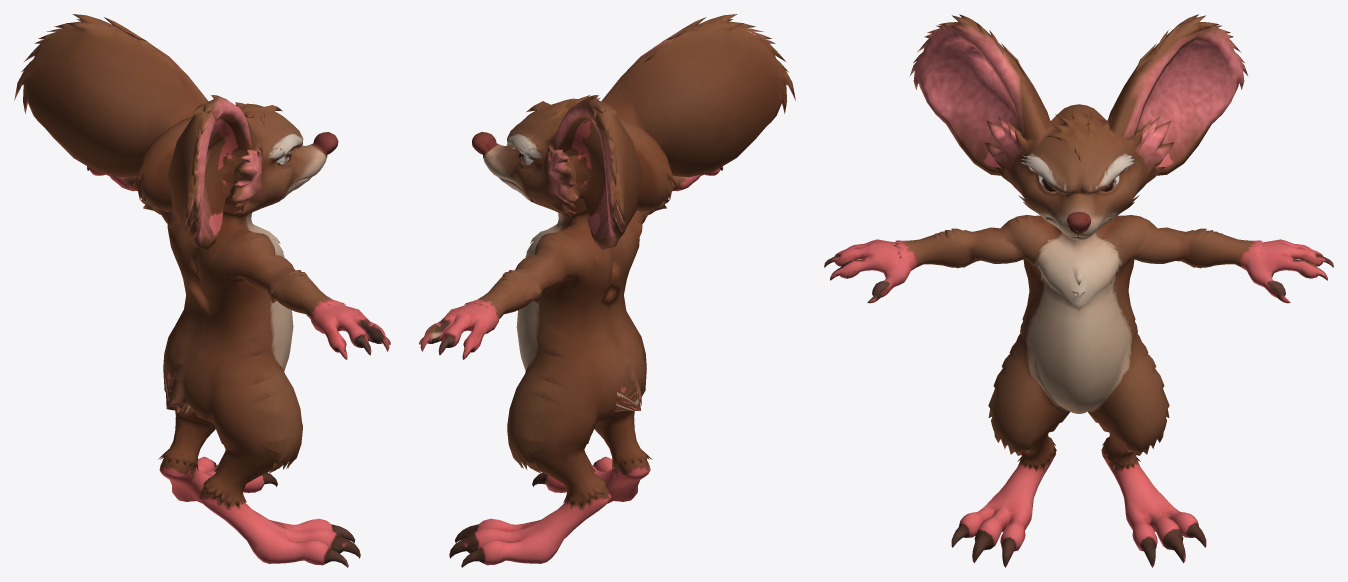
Rendered from tail_v5.glb.
3 renders of one model, left to right at view 1: azimuth 30°, elevation 25°; view 2: azimuth 150°, elevation 25°; view 3: azimuth 270°, elevation 25°, orthographic. The views are drawn at different scales.
Parts seen in each view (by area): view 1: Tail_v5_GAME; view 2: Tail_v5_GAME; view 3: Tail_v5_GAME.
Part boxes in pixels (x1,y1,x2,y2): Tail_v5_GAME: (14, 14, 390, 567); Tail_v5_GAME: (419, 14, 795, 567); Tail_v5_GAME: (824, 14, 1333, 567).
Size of the model in its own units: 0.4878 by 0.98 by 0.9563.
1 material, 1 textured.
